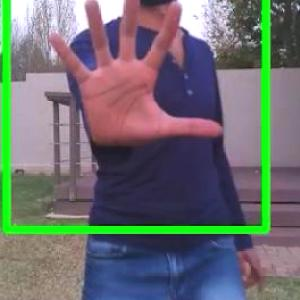follow_hand: (43, 0, 225, 151)
